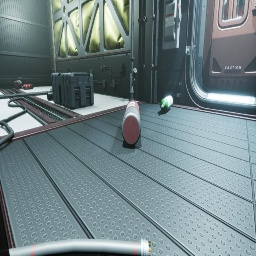0: (160, 96, 173, 112)
FireExtinguisher ]: (21, 84, 34, 90)
NitrogenTank ,: (121, 100, 141, 146), (14, 80, 22, 89)
SafetySwitchPanel ,: (162, 0, 181, 50)
